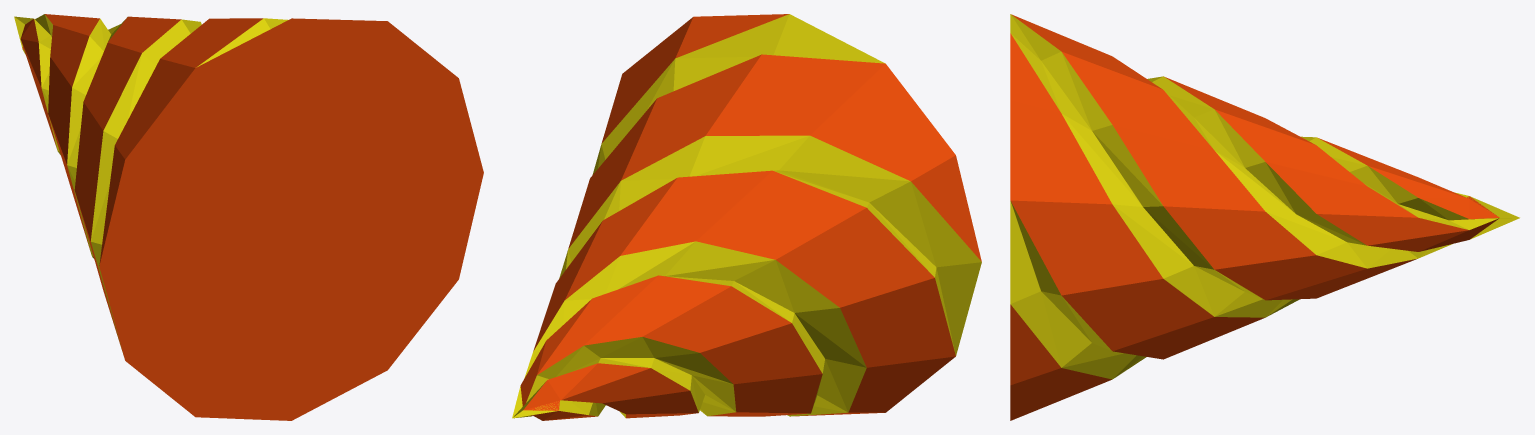
The model's file is Missile.obj.
3 views of the same model, side by side, from view 1: azimuth 30°, elevation 25°; view 2: azimuth 150°, elevation 25°; view 3: azimuth 270°, elevation 25° (orthographic). The views are drawn at different scales.
Visible parts, largest first — view 1: Missile; view 2: Missile; view 3: Missile.
Part boxes in pixels (x1,y1,x2,y2): Missile: [14, 14, 483, 420]; Missile: [512, 14, 981, 420]; Missile: [1010, 14, 1519, 420].
Bounding box in the file's own units: 0.1767 × 0.1767 × 0.2208.
